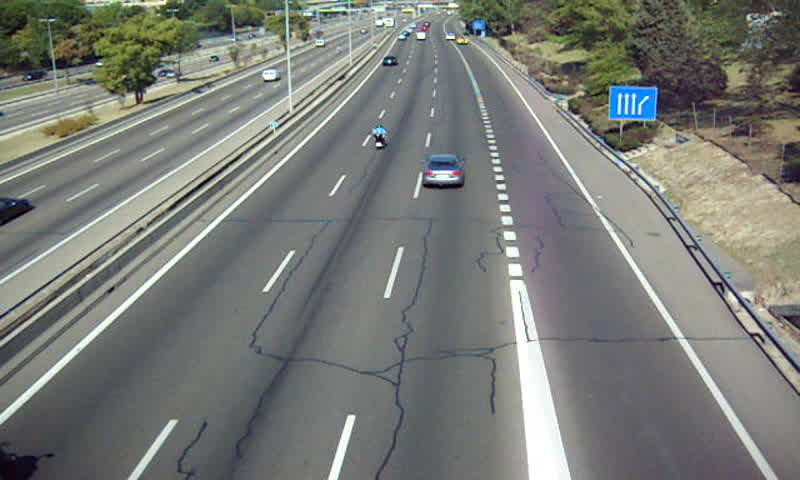car: (423, 155, 465, 187), (381, 55, 397, 68)
motorcycle: (372, 124, 387, 152)
